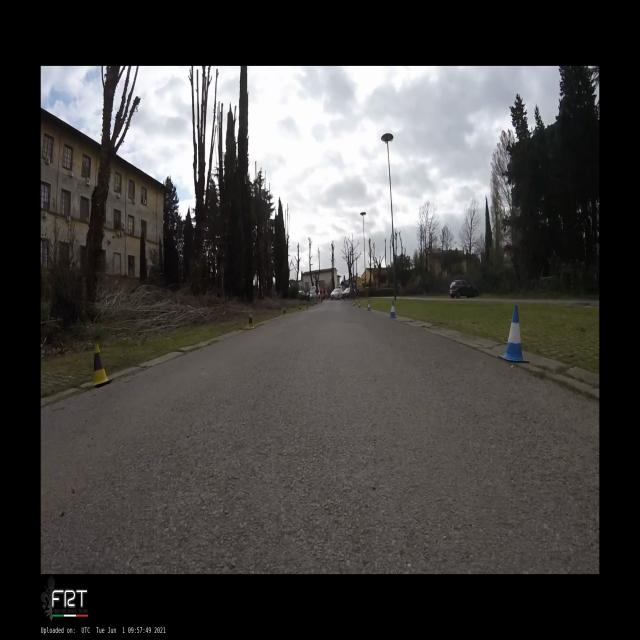blue_cone: (498, 306, 529, 362), (388, 301, 396, 318), (366, 300, 372, 310), (358, 301, 361, 308), (353, 301, 354, 306)
yellow_cone: (87, 343, 114, 387), (247, 313, 255, 329), (284, 308, 286, 315), (299, 306, 301, 312)
